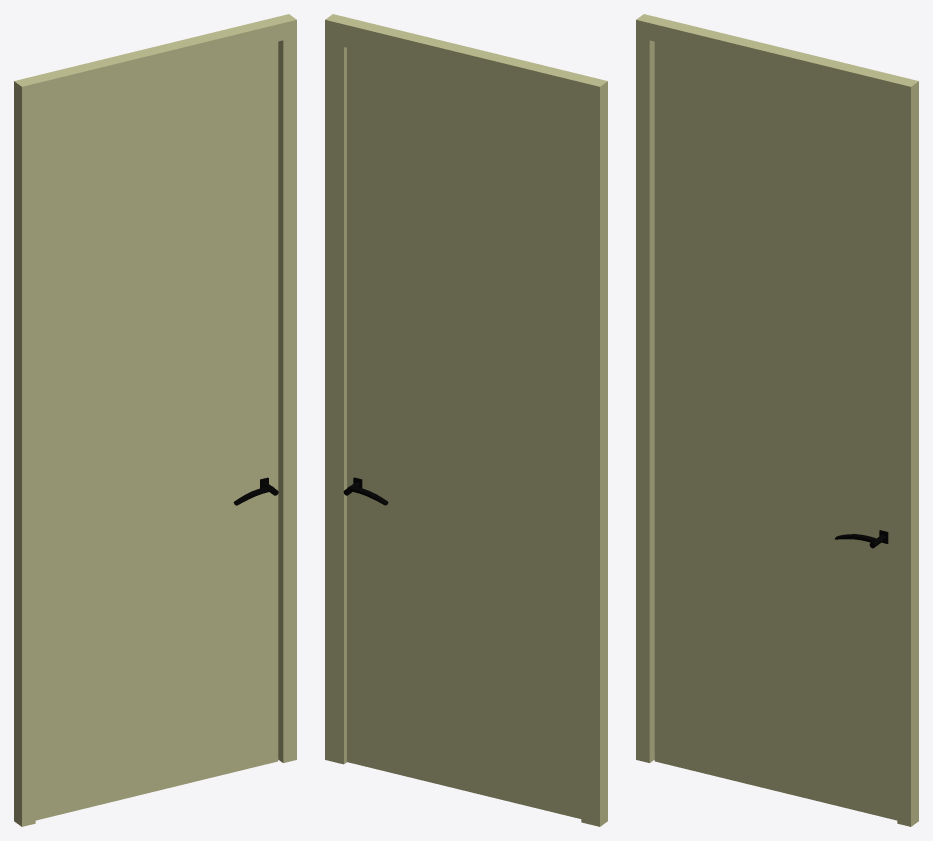
The model's file is door.fbx.
The picture shows the model from 3 angles, left to right: view 1: azimuth 30°, elevation 25°; view 2: azimuth 150°, elevation 25°; view 3: azimuth 330°, elevation 25°; orthographic projection.
Parts seen in each view (by area): view 1: Door, Frame; view 2: Door, Frame; view 3: Door, Frame.
Boxes of the visible parts, bbox=[...] form: Door: bbox=[35, 41, 278, 820]; Frame: bbox=[14, 14, 296, 826]; Door: bbox=[343, 48, 581, 818]; Frame: bbox=[325, 14, 607, 826]; Door: bbox=[654, 41, 897, 820]; Frame: bbox=[636, 14, 918, 826].
Size of the model in its own units: 100 by 258 by 16.
